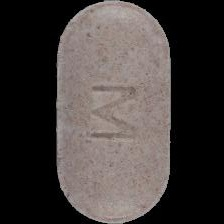54868-3390: (0, 0, 224, 224)
